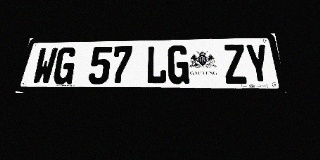5: (88, 46, 112, 84)
7: (109, 46, 133, 84)
G: (51, 47, 78, 85), (167, 45, 189, 84)
L: (145, 45, 167, 84)
W: (31, 47, 58, 85)
Y: (244, 44, 272, 84)
Z: (222, 44, 248, 84)
